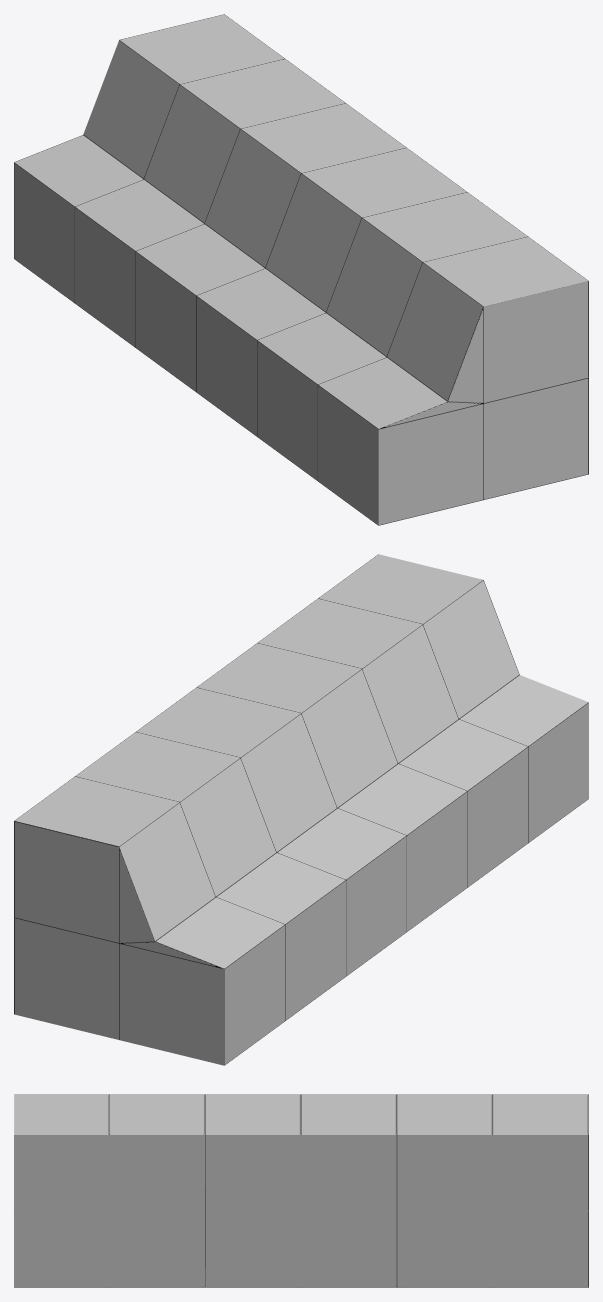
File: console.obj
The picture shows the model from 3 angles, top to bottom: view 1: azimuth 30°, elevation 25°; view 2: azimuth 150°, elevation 25°; view 3: azimuth 270°, elevation 25°; orthographic projection. The views are drawn at different scales.
Visible parts, largest first — view 1: console_Cube.005; view 2: console_Cube.005; view 3: console_Cube.005.
Part boxes in pixels (<box>): console_Cube.005: <box>14,14,588,525</box>; console_Cube.005: <box>14,554,588,1065</box>; console_Cube.005: <box>14,1094,588,1287</box>.
Bounding box in the file's own units: 2 × 1.76 × 6.
1 material, 1 textured.
